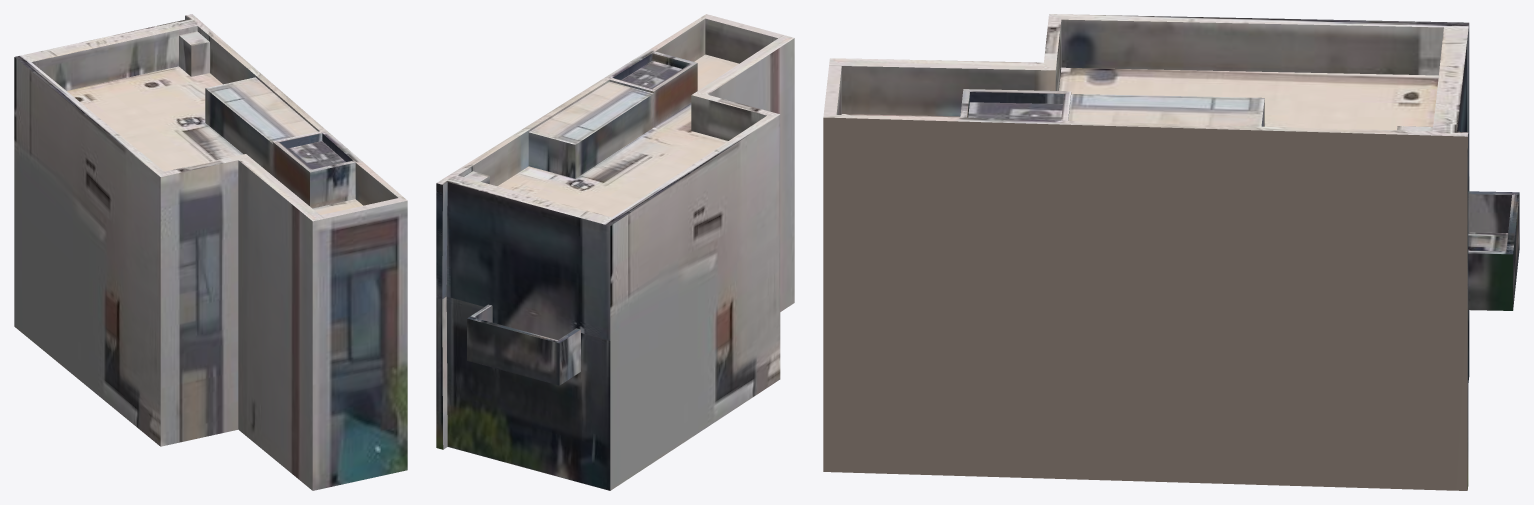
3 renders of one model, left to right at view 1: azimuth 30°, elevation 25°; view 2: azimuth 150°, elevation 25°; view 3: azimuth 270°, elevation 25°, orthographic. The views are drawn at different scales.
Parts seen in each view (by area): view 1: B284204037901062A0; view 2: B284204037901062A0; view 3: B284204037901062A0.
Part boxes in pixels (<box>): B284204037901062A0: <box>14,14,407,490</box>; B284204037901062A0: <box>436,14,794,490</box>; B284204037901062A0: <box>823,14,1519,490</box>.
Size of the model in its own units: 6.78 by 9.14 by 16.28.
1 material, 1 textured.
